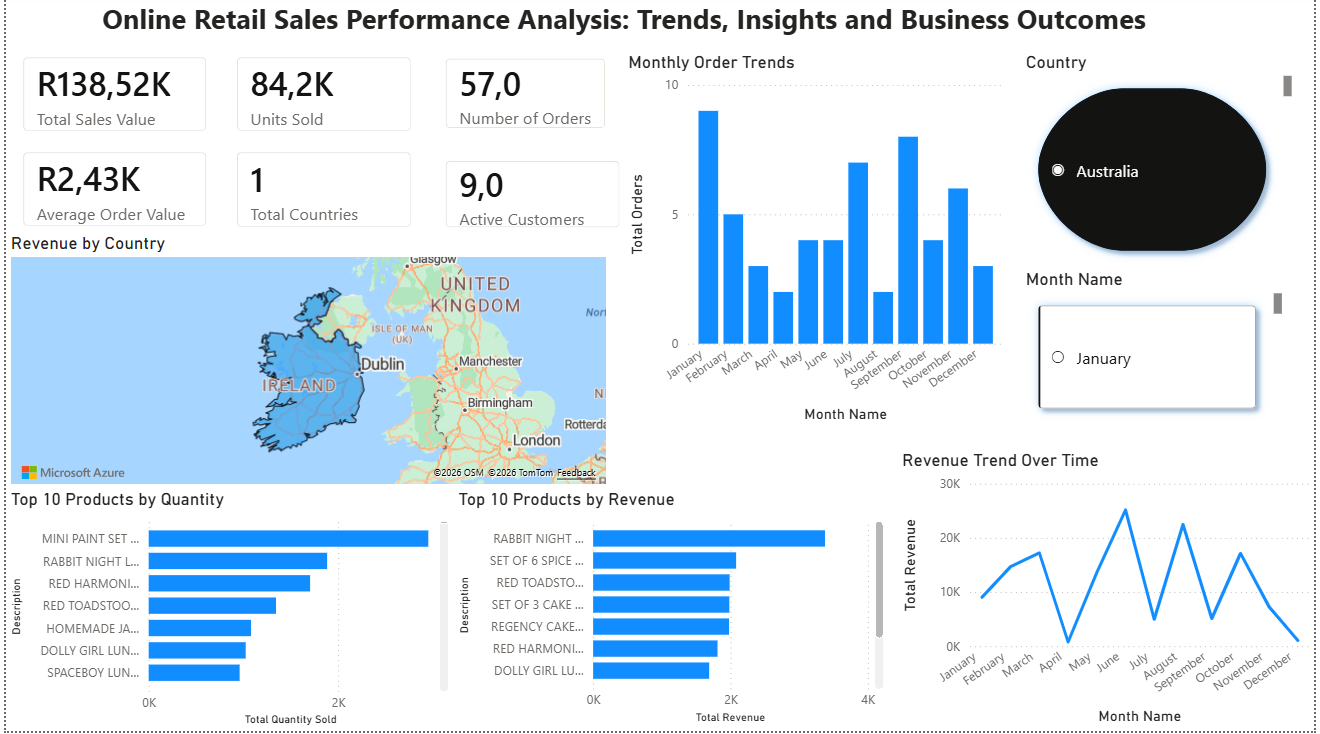

The page's visual inventory and layout, read from the dashboard file:
{"tool":"powerbi","page":{"name":"Analysis","canvas":[1280,720],"ordinal":0},"visuals":[{"type":"cardVisual","fields":{"Data":["online_retail.Total Countries"]},"box":[216,146,197.9,107.4],"z":0},{"type":"cardVisual","fields":{"Data":["online_retail.Total Orders"]},"box":[413.8,43.4,190.6,107.4],"z":1000},{"type":"cardVisual","fields":{"Data":["online_retail.Average Order Value"]},"box":[10.9,146,205.1,107.4],"z":2000},{"type":"cardVisual","fields":{"Data":["online_retail.Total Quantity Sold"]},"box":[208.7,43.4,205.1,106.2],"z":3000},{"type":"cardVisual","fields":{"Data":["online_retail.Total Revenue"]},"box":[12.1,43.4,203.9,107.4],"z":4000},{"type":"cardVisual","fields":{"Data":["online_retail.Unique Customers"]},"box":[413.8,146,190.6,107.4],"z":5000},{"type":"lineChart","title":"Revenue Trend Over Time","fields":{"Y":["online_retail.Total Revenue"],"Category":["online_retail.Month Name"]},"box":[872.3,445.2,390.9,273.9],"z":6000},{"type":"barChart","title":"Top 10 Products by Revenue","fields":{"Y":["online_retail.Total Revenue"],"Category":["online_retail.Description"]},"box":[447.6,491,416.2,219.6],"z":7000},{"type":"barChart","title":"Top 10 Products by Quantity","fields":{"Category":["online_retail.Description"],"Y":["online_retail.Total Quantity Sold"]},"box":[10.9,491,427.1,219.6],"z":8000},{"type":"azureMap","title":"Revenue by Country","fields":{"Category":["online_retail.Country"]},"box":[12.1,253.4,592.4,228],"z":9000},{"type":"columnChart","title":"Monthly Order Trends","fields":{"Category":["online_retail.Month Name"],"Y":["online_retail.Total Orders"]},"box":[617.7,55.5,376.4,368],"z":10000},{"type":"advancedSlicerVisual","fields":{"Values":["online_retail.Country"]},"box":[1005,56.7,258.2,212.3],"z":11000},{"type":"advancedSlicerVisual","fields":{"Values":["online_retail.Month Name"]},"box":[1013.4,282.3,249.7,154.4],"z":12000},{"type":"textbox","box":[89.3,0,1073.7,43.4],"z":13000}]}

Visuals, with their boxes in screenshot pixels (x1, y1, x2, y2), scaled from the page's 1280x720 canvas onto the 1320x734 screenshot:
cardVisual - online_retail.Total Countries: [223,149,427,258]
cardVisual - online_retail.Total Orders: [427,44,623,154]
cardVisual - online_retail.Average Order Value: [11,149,223,258]
cardVisual - online_retail.Total Quantity Sold: [215,44,427,153]
cardVisual - online_retail.Total Revenue: [12,44,223,154]
cardVisual - online_retail.Unique Customers: [427,149,623,258]
"Revenue Trend Over Time" lineChart: [900,454,1303,733]
"Top 10 Products by Revenue" barChart: [462,501,891,724]
"Top 10 Products by Quantity" barChart: [11,501,452,724]
"Revenue by Country" azureMap: [12,258,623,491]
"Monthly Order Trends" columnChart: [637,57,1025,432]
advancedSlicerVisual - online_retail.Country: [1036,58,1303,274]
advancedSlicerVisual - online_retail.Month Name: [1045,288,1303,445]
textbox: [92,0,1199,44]
